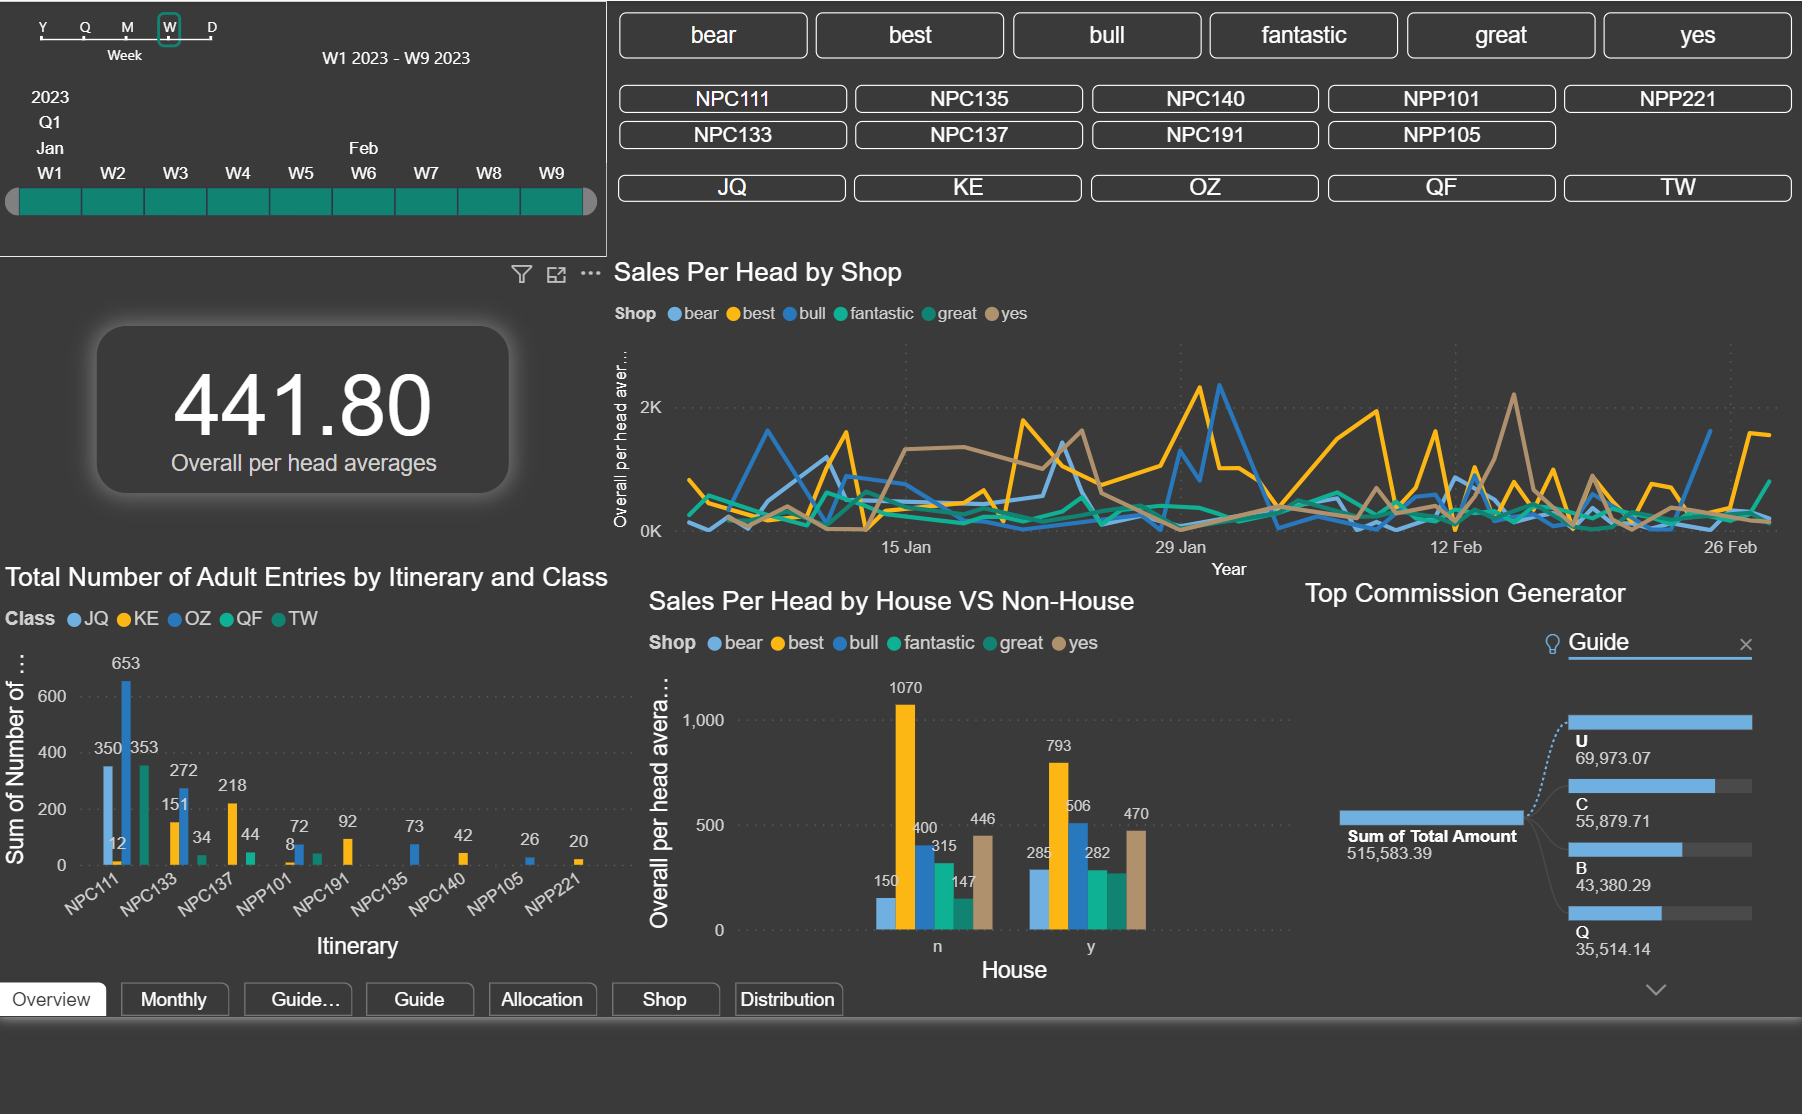

What the dashboard file says about the page in this screenshot:
{"tool":"powerbi","page":{"name":"Overview","canvas":[1280,720],"ordinal":0},"visuals":[{"type":"card","fields":{"Values":["data.Overall per head averages"]},"box":[70,230.5,291.8,118.7],"z":0},{"type":"Timeline1447991079100","fields":{"Time":["data.Date"]},"box":[0,0,431.9,181.9],"z":1000},{"type":"lineChart","title":"Sales Per Head by Shop","fields":{"Category":["data.Date.Variation.Date Hierarchy.Year","data.Date.Variation.Date Hierarchy.Quarter","data.Date.Variation.Date Hierarchy.Month","data.Date.Variation.Date Hierarchy.Day"],"Y":["data.Overall per head averages"],"Series":["data.Shop"]},"box":[431.9,181.9,848.1,232.5],"z":2000},{"type":"clusteredColumnChart","title":"Total Number of Adult Entries by Itinerary and Class","fields":{"Category":["data.Itinerary"],"Y":["Sum(data.Number of Adults)"],"Series":["data.Class"]},"box":[0,397.8,456.2,286],"z":3000},{"type":"clusteredColumnChart","title":"Sales Per Head by House VS Non-House","fields":{"Category":["data.House"],"Y":["data.Overall per head averages"],"Series":["data.Shop"]},"box":[456.2,414.3,464.9,286],"z":4000},{"type":"ChicletSlicer1448559807354","fields":{"Category":["data.Shop"]},"box":[432.3,0,847.8,51.4],"z":5000},{"type":"ChicletSlicer1448559807354","fields":{"Category":["data.Itinerary"]},"box":[432.3,51.4,847.8,63.8],"z":6000},{"type":"ChicletSlicer1448559807354","fields":{"Category":["data.Class"]},"box":[431.9,114.8,848.1,67.1],"z":7000},{"type":"decompositionTreeVisual","title":"Top Commission Generator","fields":{"Analyze":["Sum(data.Total Amount)"],"ExplainBy":["data.Guide"]},"box":[921.1,409.5,358.9,310.3],"z":8000},{"type":"pageNavigator","box":[0,695.5,599.8,24.8],"z":9000}]}

Visuals, with their boxes on the page's 1280x720 design canvas (x1, y1, x2, y2). These are canvas units, not pixel positions in the 1802x1114 screenshot, which may show the page scaled, cropped or inside an application window:
card - data.Overall per head averages: bbox(70, 230, 362, 349)
Timeline1447991079100 - data.Date: bbox(0, 0, 432, 182)
"Sales Per Head by Shop" lineChart: bbox(432, 182, 1280, 414)
"Total Number of Adult Entries by Itinerary and Class" clusteredColumnChart: bbox(0, 398, 456, 684)
"Sales Per Head by House VS Non-House" clusteredColumnChart: bbox(456, 414, 921, 700)
ChicletSlicer1448559807354 - data.Shop: bbox(432, 0, 1280, 51)
ChicletSlicer1448559807354 - data.Itinerary: bbox(432, 51, 1280, 115)
ChicletSlicer1448559807354 - data.Class: bbox(432, 115, 1280, 182)
"Top Commission Generator" decompositionTreeVisual: bbox(921, 410, 1280, 720)
pageNavigator: bbox(0, 696, 600, 720)
